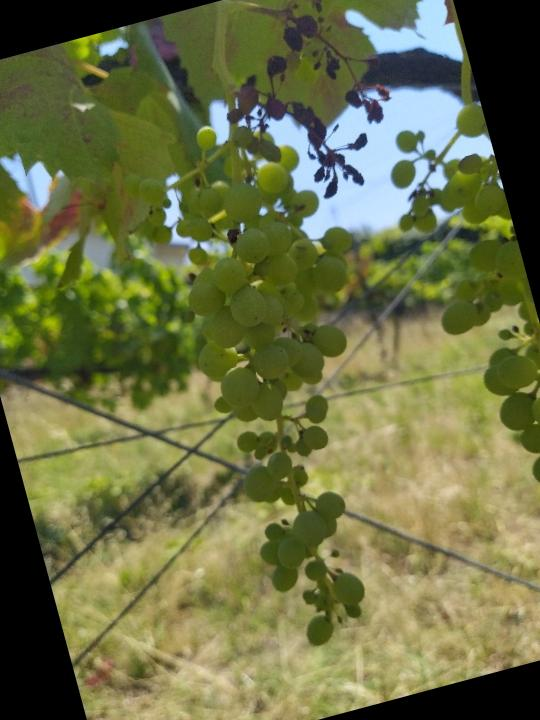grape: (114, 95, 453, 670), (196, 0, 422, 219)
